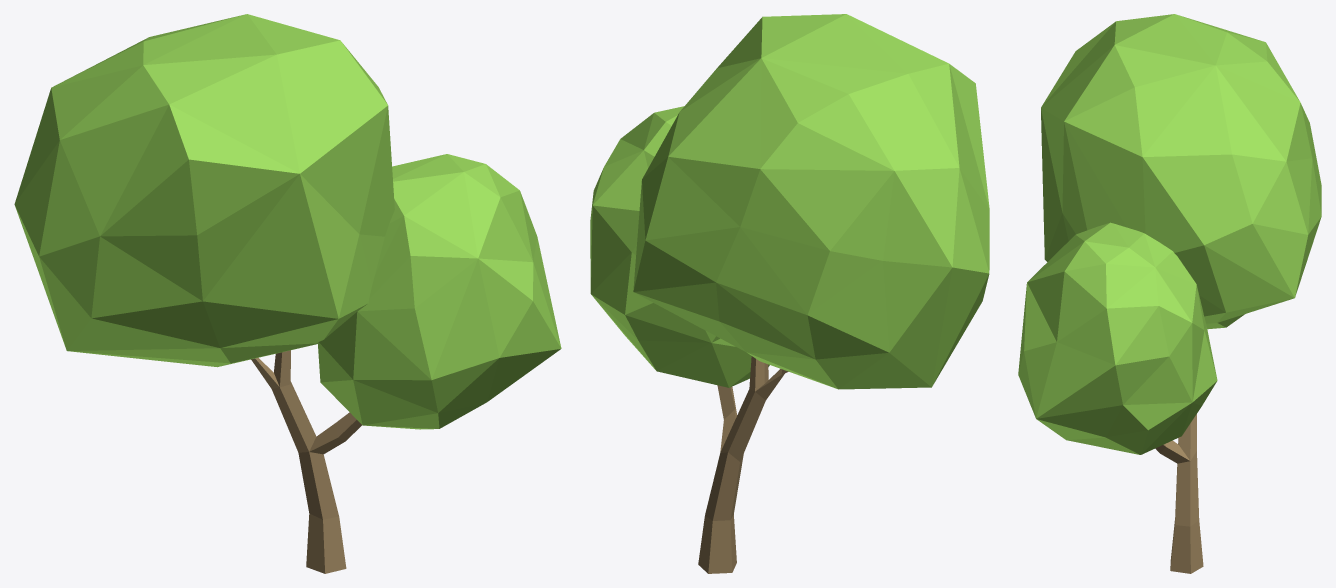
The model's file is Apple_Tree_m_06_LOD.fbx.
3 renders of one model, left to right at view 1: azimuth 30°, elevation 25°; view 2: azimuth 150°, elevation 25°; view 3: azimuth 270°, elevation 25°, orthographic. The views are drawn at different scales.
Parts seen in each view (by area): view 1: Apple_Tree_m_06_LOD0; view 2: Apple_Tree_m_06_LOD0; view 3: Apple_Tree_m_06_LOD0.
Part boxes in pixels (x1,y1,x2,y2): Apple_Tree_m_06_LOD0: (14,14,561,573); Apple_Tree_m_06_LOD0: (590,14,989,573); Apple_Tree_m_06_LOD0: (1018,14,1321,573).
Size of what is drawn, in the model's own units: 620 by 736 by 419.
